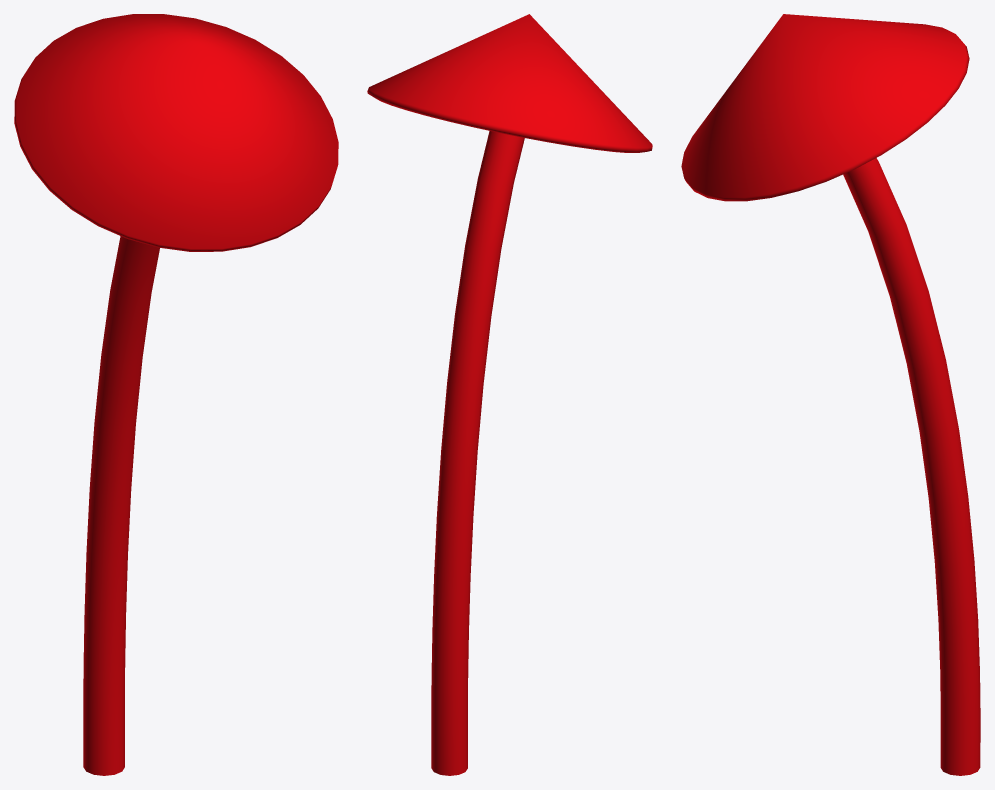
File: Seta_Roja_Patron.glb
3 views of the same model, side by side, from view 1: azimuth 30°, elevation 25°; view 2: azimuth 150°, elevation 25°; view 3: azimuth 270°, elevation 25° (orthographic). The views are drawn at different scales.
Visible parts, largest first — view 1: BézierCurve; view 2: BézierCurve; view 3: BézierCurve.
Boxes of the visible parts, box(x1,y1,x2,y2) form: BézierCurve: box(14, 14, 338, 775); BézierCurve: box(367, 14, 652, 775); BézierCurve: box(681, 14, 980, 775).
Bounding box in the file's own units: 0.6399 × 1.67 × 0.6017.
